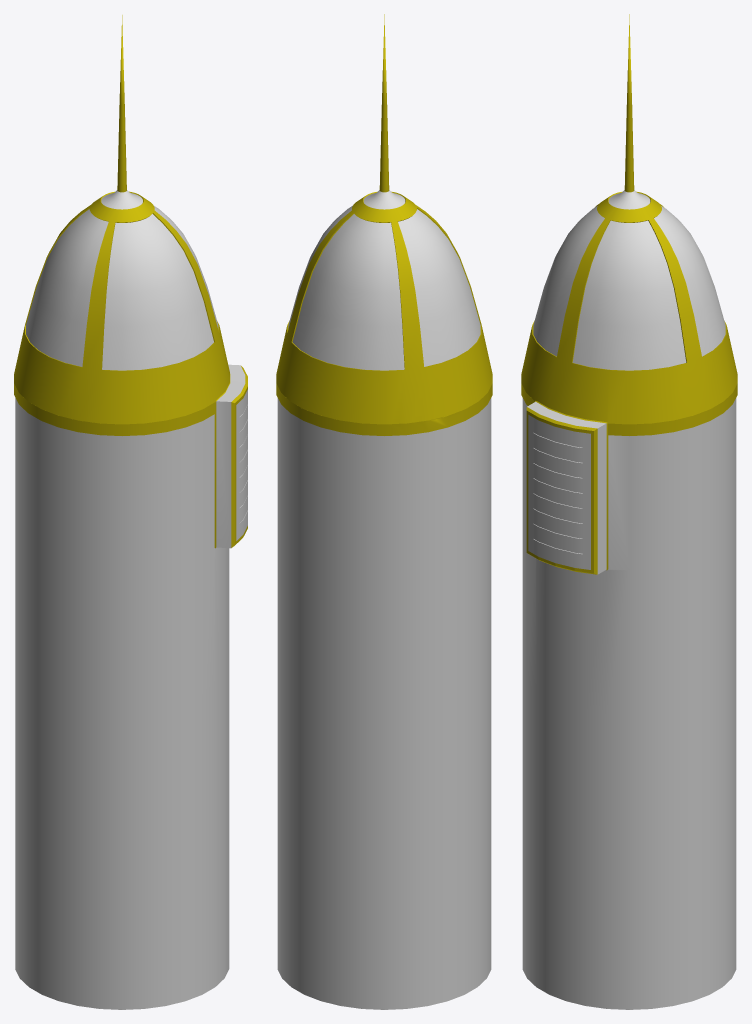
File: TorreFuturista.FBX
3 renders of one model, left to right at view 1: azimuth 30°, elevation 25°; view 2: azimuth 150°, elevation 25°; view 3: azimuth 270°, elevation 25°, orthographic.
Parts seen in each view (by area): view 1: TorreAD; view 2: TorreAD; view 3: TorreAD.
Boxes of the visible parts, x1,y1,x2,y2 form: TorreAD: (14, 15, 247, 1009); TorreAD: (276, 14, 492, 1009); TorreAD: (521, 14, 737, 1009).
Bounding box in the file's own units: 21.24 × 97.49 × 20.09.
